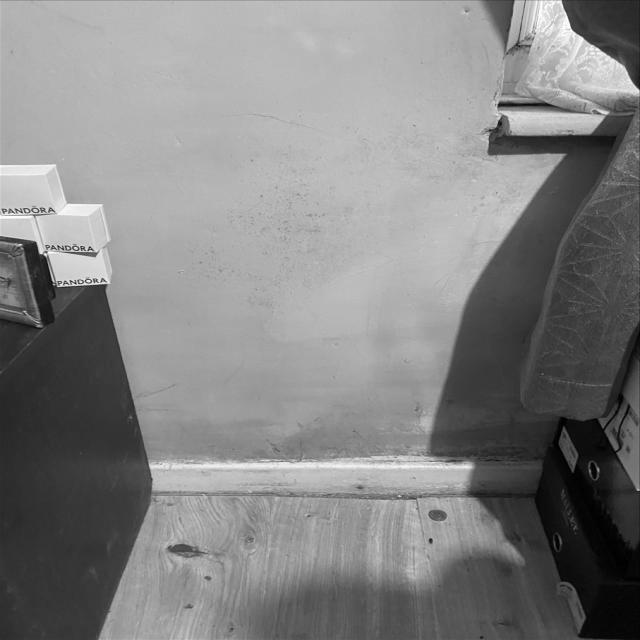stain marks: (100, 83, 558, 470)
